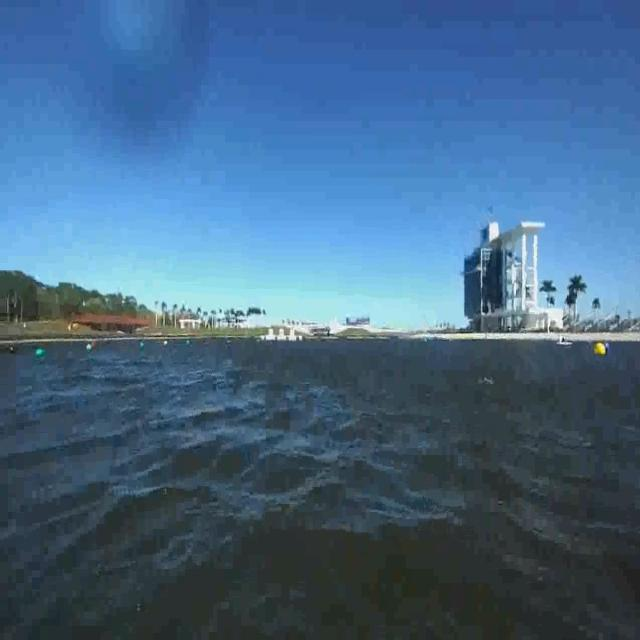green-buoy: (36, 346, 46, 360)
yellow-buoy: (594, 342, 607, 359)
